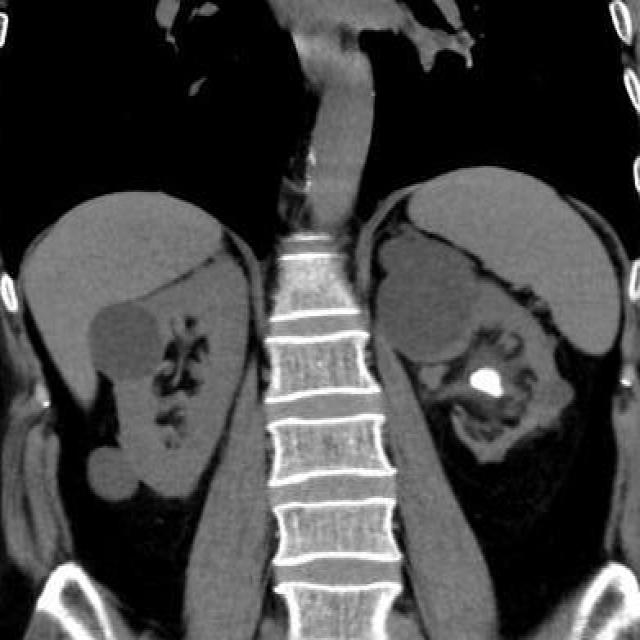Tas_Var: (468, 364, 508, 404)
